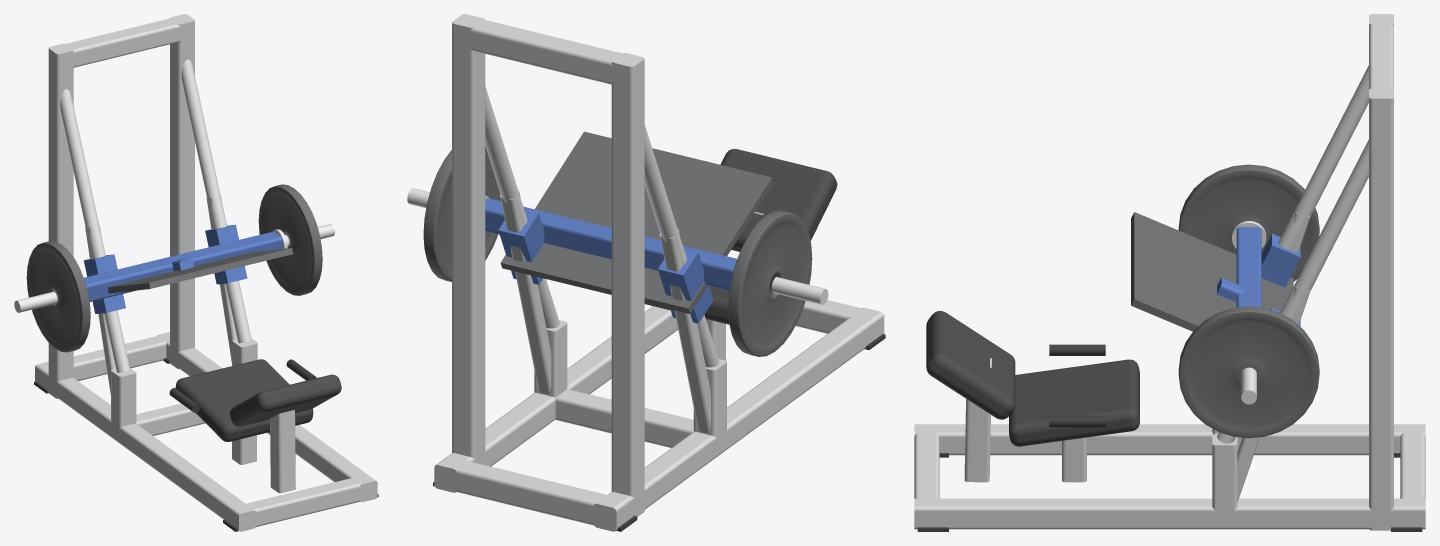
3 views of the same model, side by side, from view 1: azimuth 30°, elevation 25°; view 2: azimuth 150°, elevation 25°; view 3: azimuth 270°, elevation 25° (orthographic). The views are drawn at different scales.
Parts seen in each view (by area): view 1: base, carriage, upright_right, rail (×2), upright_left, seat_pad, frame, carriage_beam, backrest_pad, top_crossbar, foot_plate, backrest (+3 smaller); view 2: base, foot_plate, upright_left, upright_right, carriage, frame, top_crossbar, rail (×2), backrest_pad, carriage_beam, carriage_slider (×2), plate_horn (+1 smaller); view 3: base, carriage, upright_right, foot_plate, seat_pad, rail (×2), backrest_pad, frame, carriage_beam, backrest, top_crossbar, side_handle (×2) (+2 smaller).
Boxes of the visible parts, left/top/right/bottom form: base: left=34, top=332, right=378, bottom=531; carriage: left=26, top=184, right=322, bottom=352; upright_right: left=170, top=14, right=194, bottom=369; rail (×2): left=60, top=59, right=251, bottom=372; upright_left: left=48, top=43, right=73, bottom=398; seat_pad: left=175, top=359, right=313, bottom=441; frame: left=85, top=195, right=257, bottom=428; carriage_beam: left=84, top=231, right=282, bottom=301; backrest_pad: left=230, top=374, right=341, bottom=426; top_crossbar: left=58, top=17, right=187, bottom=67; foot_plate: left=108, top=248, right=293, bottom=293; backrest: left=270, top=410, right=295, bottom=493; base: left=433, top=300, right=885, bottom=531; foot_plate: left=500, top=131, right=773, bottom=313; upright_left: left=611, top=53, right=644, bottom=516; upright_right: left=452, top=14, right=485, bottom=464; carriage: left=423, top=146, right=812, bottom=356; frame: left=500, top=190, right=726, bottom=446; top_crossbar: left=462, top=18, right=627, bottom=84; rail (×2): left=485, top=86, right=718, bottom=367; backrest_pad: left=720, top=149, right=837, bottom=251; carriage_beam: left=485, top=198, right=736, bottom=290; carriage_slider (×2): left=498, top=209, right=713, bottom=323; plate_horn: left=771, top=277, right=828, bottom=304; base: left=914, top=424, right=1425, bottom=531; carriage: left=1178, top=164, right=1319, bottom=438; upright_right: left=1369, top=88, right=1393, bottom=530; foot_plate: left=1131, top=212, right=1293, bottom=331; seat_pad: left=1009, top=359, right=1139, bottom=446; rail (×2): left=1217, top=65, right=1368, bottom=443; backrest_pad: left=926, top=311, right=1015, bottom=419; frame: left=1212, top=212, right=1310, bottom=518; carriage_beam: left=1236, top=227, right=1261, bottom=307; backrest: left=964, top=358, right=991, bottom=482; top_crossbar: left=1369, top=24, right=1393, bottom=92; side_handle (×2): left=1049, top=344, right=1105, bottom=427.
Bounding box in the file's own units: 1.45 × 1.52 × 1.63.
